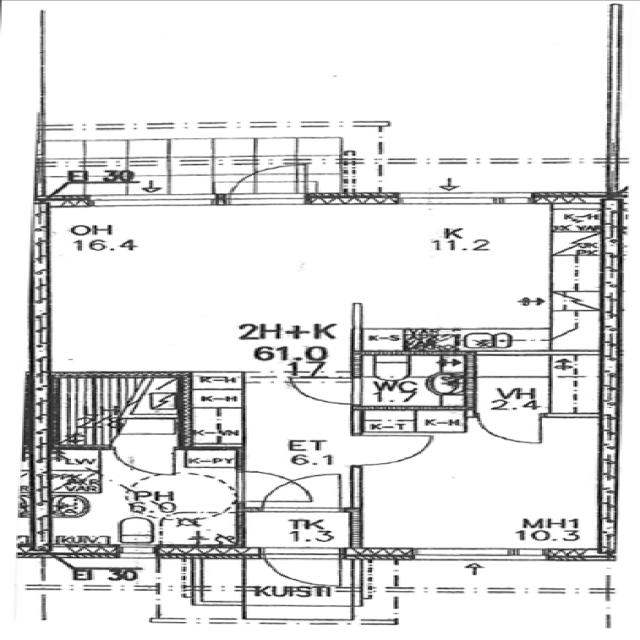door: (215, 161, 317, 207), (238, 466, 348, 508), (250, 548, 345, 590), (344, 432, 436, 466), (281, 375, 364, 407), (473, 412, 549, 446), (107, 446, 179, 476)
window: (70, 190, 223, 212), (384, 189, 536, 209)
zone: (17, 200, 620, 364), (352, 414, 616, 556), (31, 450, 245, 554), (465, 350, 612, 417), (47, 374, 179, 437), (352, 351, 472, 411), (242, 506, 361, 554), (383, 408, 472, 432), (351, 408, 435, 433)
